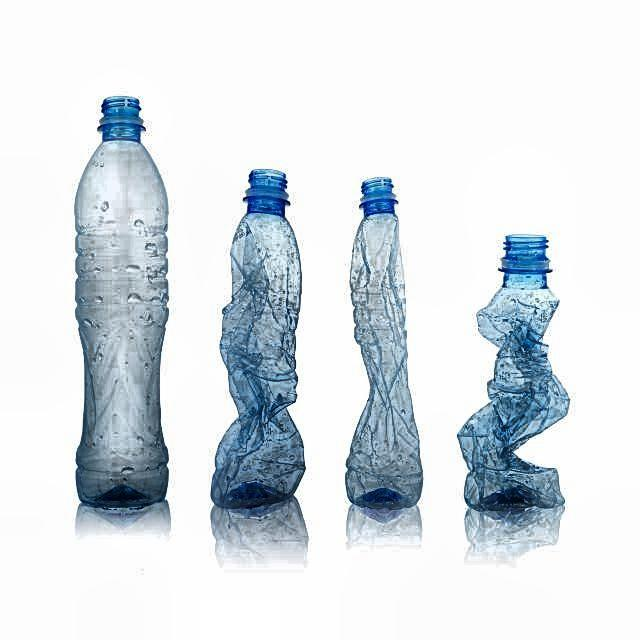plastic: (73, 96, 171, 516), (210, 169, 307, 514), (458, 233, 572, 518), (344, 178, 424, 524)
